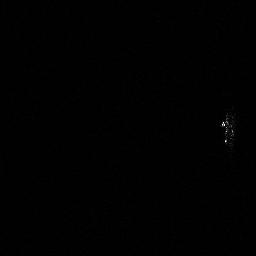ship: (220, 108, 236, 147)
